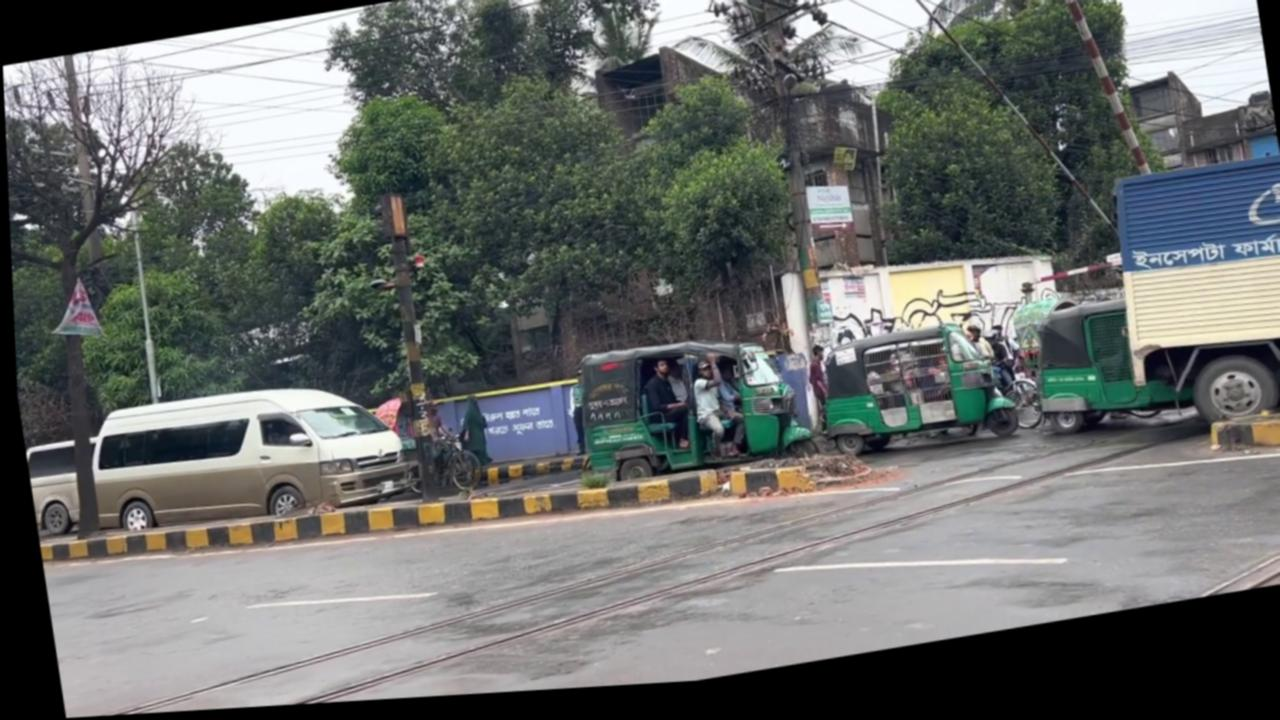Bollard: (60, 338, 417, 555)
Car: (31, 408, 894, 629)
Fence: (636, 362, 692, 462), (448, 399, 489, 475), (799, 352, 832, 445)
Garbage: (1022, 0, 1151, 201), (374, 193, 442, 509), (119, 208, 163, 405)
Rickshaw: (1002, 165, 1280, 467), (559, 327, 814, 498), (808, 322, 1017, 474)
